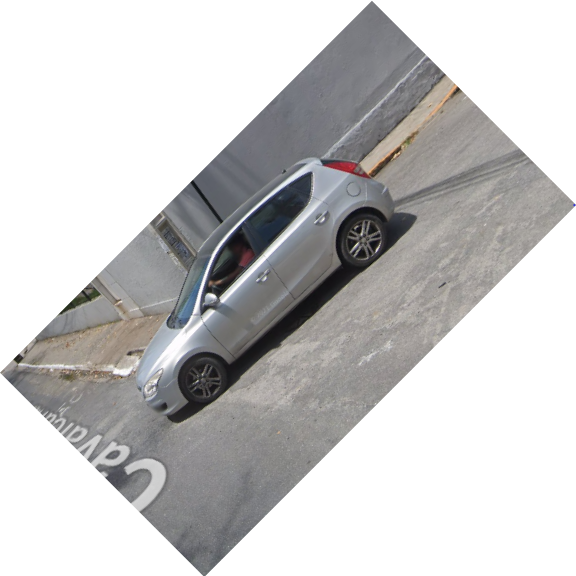car: (132, 154, 409, 422)
